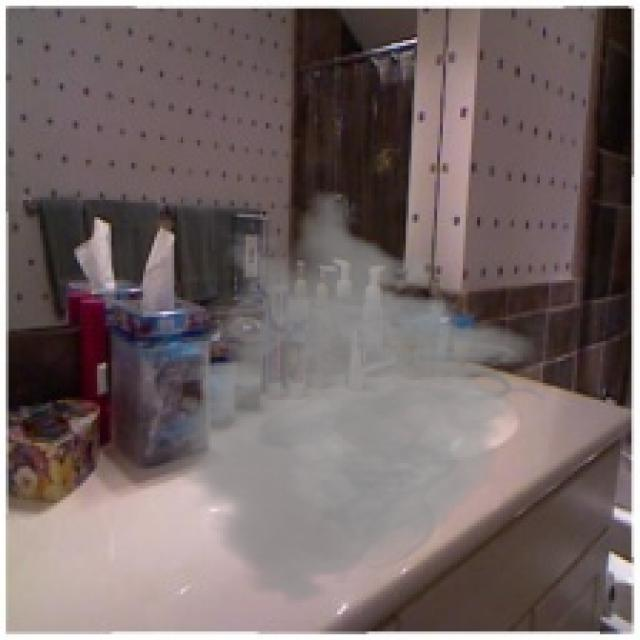smoke: (128, 188, 552, 606)
